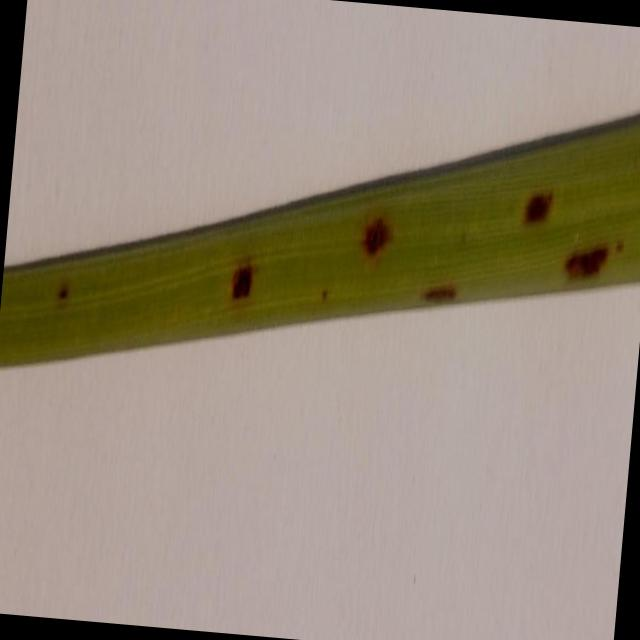Rice_Brownspot: (560, 230, 623, 292), (360, 178, 400, 265), (224, 240, 262, 330), (422, 252, 468, 318), (517, 172, 566, 232), (50, 246, 76, 310)
